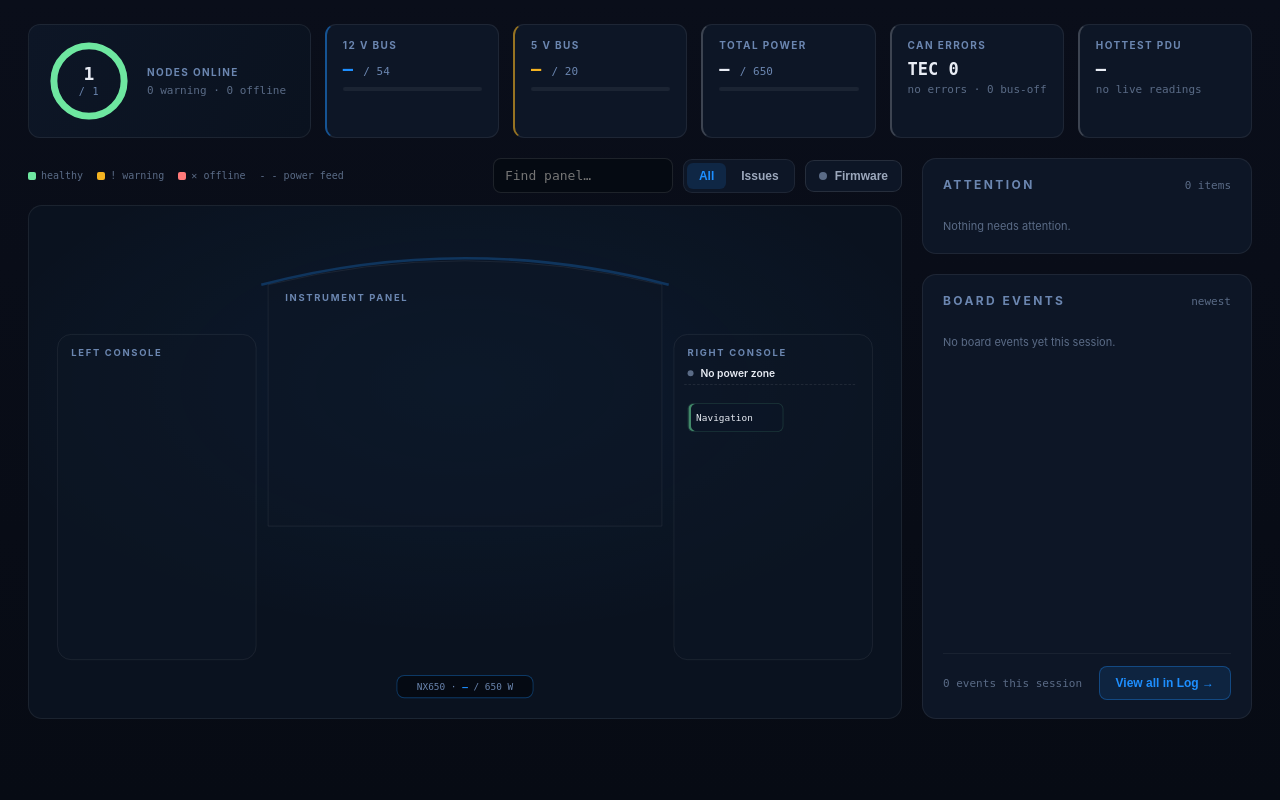
Test: T7 Board panel footer: panel group (B73, X4) › online: Forget and Hide are greyed out, with the reason
The width and height of the screenshot is (1280, 800).
Click the button titled "#2 Right_Navigation".
click(736, 417)  # box 688,403 -> 784,432
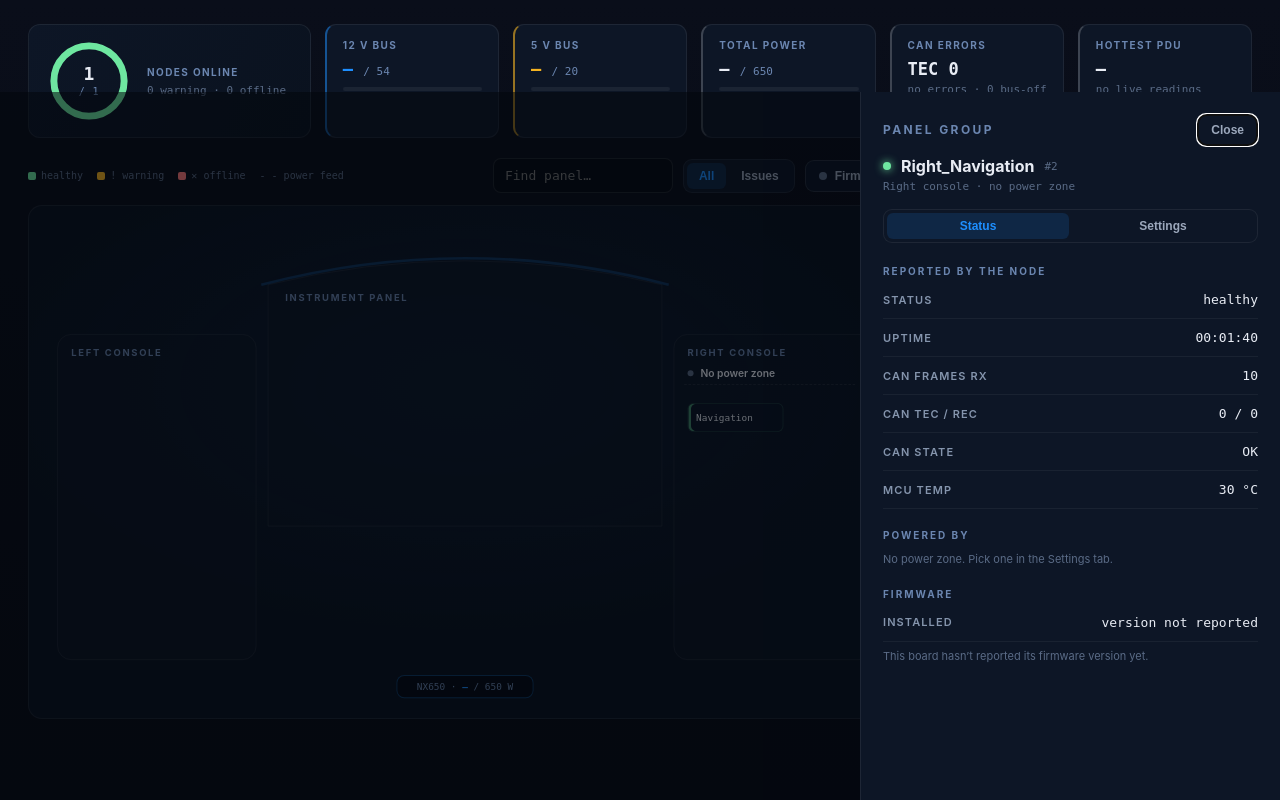
Click the tab "Settings".
click(1163, 226)  # box 1072,213 -> 1254,239
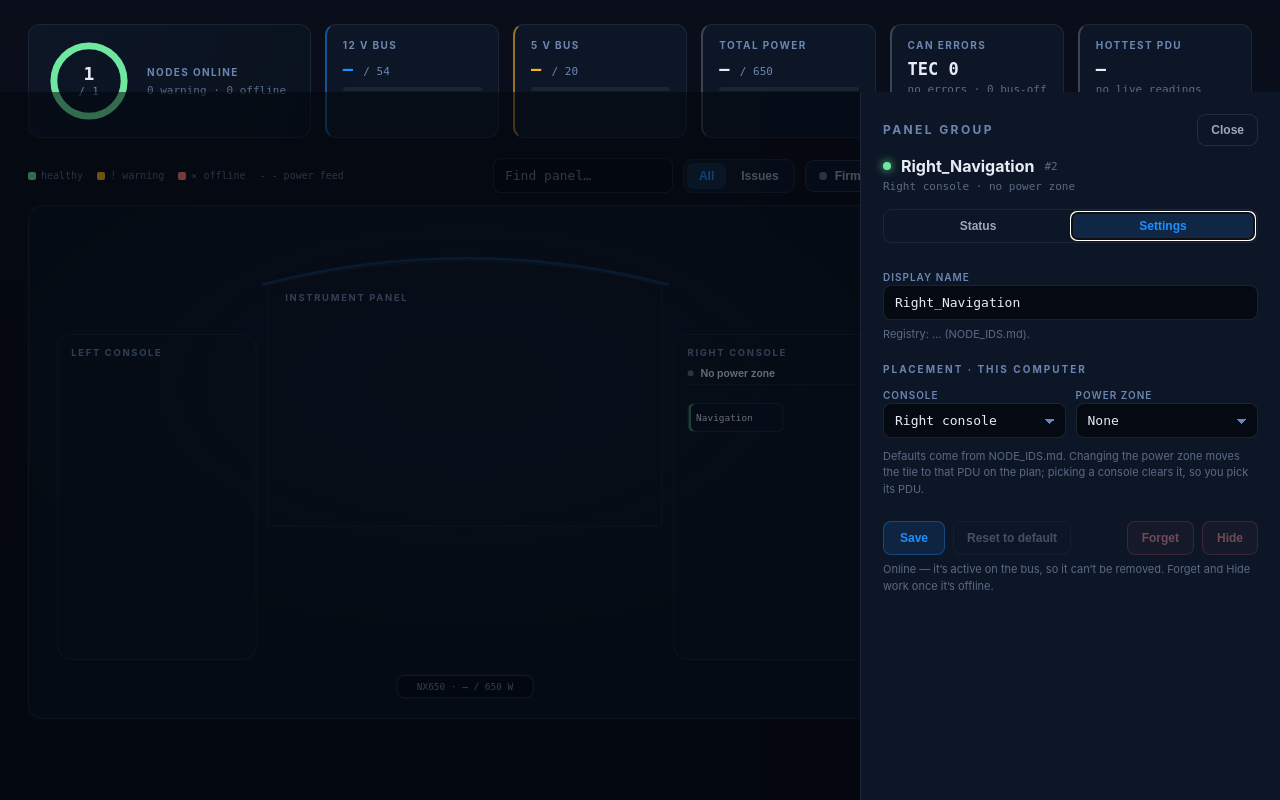
Check: the button "Forget" is disabled, box 1127,521 -> 1194,555
Check: the button "Hide" is disabled, box 1202,521 -> 1258,555
Check: the text "Online — it’s active on the bus, so it can’t be removed. Forget and Hide work once it’s offline." is shown, box 883,562 -> 1250,592
